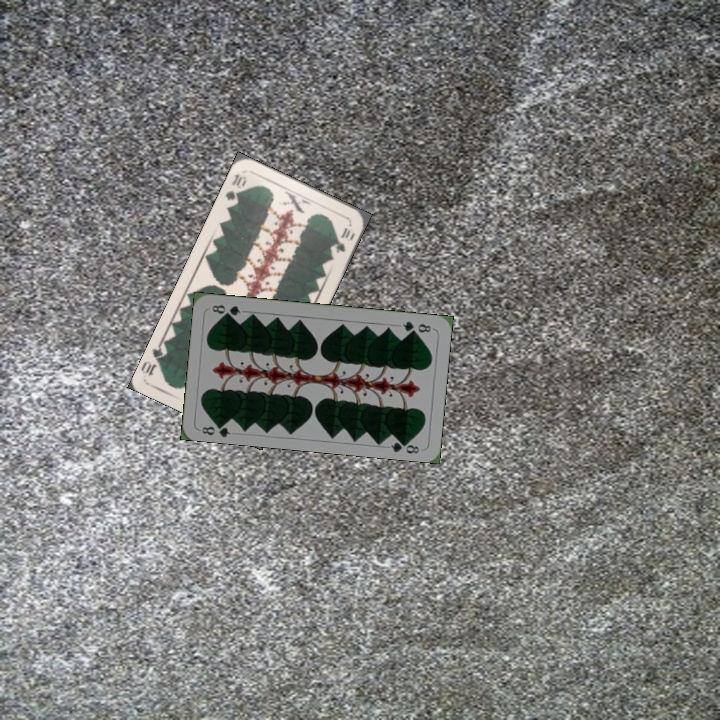G10: (221, 170, 249, 203)
G8: (198, 418, 233, 439), (398, 317, 434, 336)
